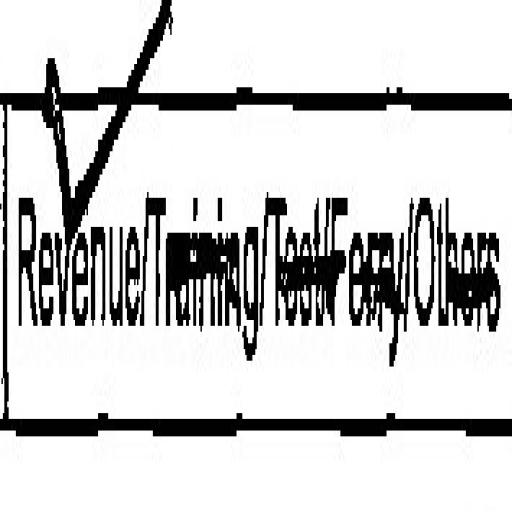check: (2, 14, 146, 494)
